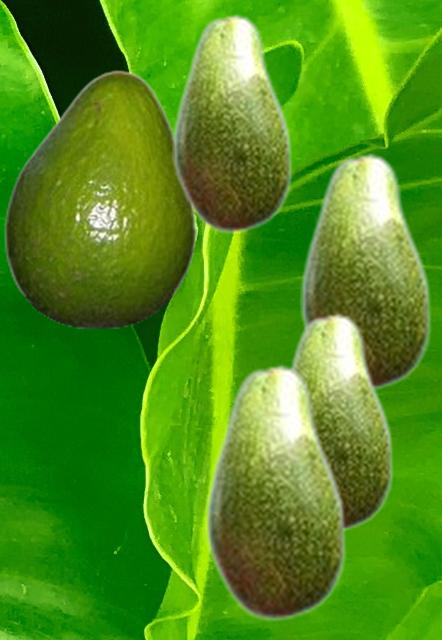avocado: (3, 69, 195, 327), (205, 362, 346, 622), (300, 151, 431, 391), (172, 12, 292, 234), (287, 311, 393, 532)
